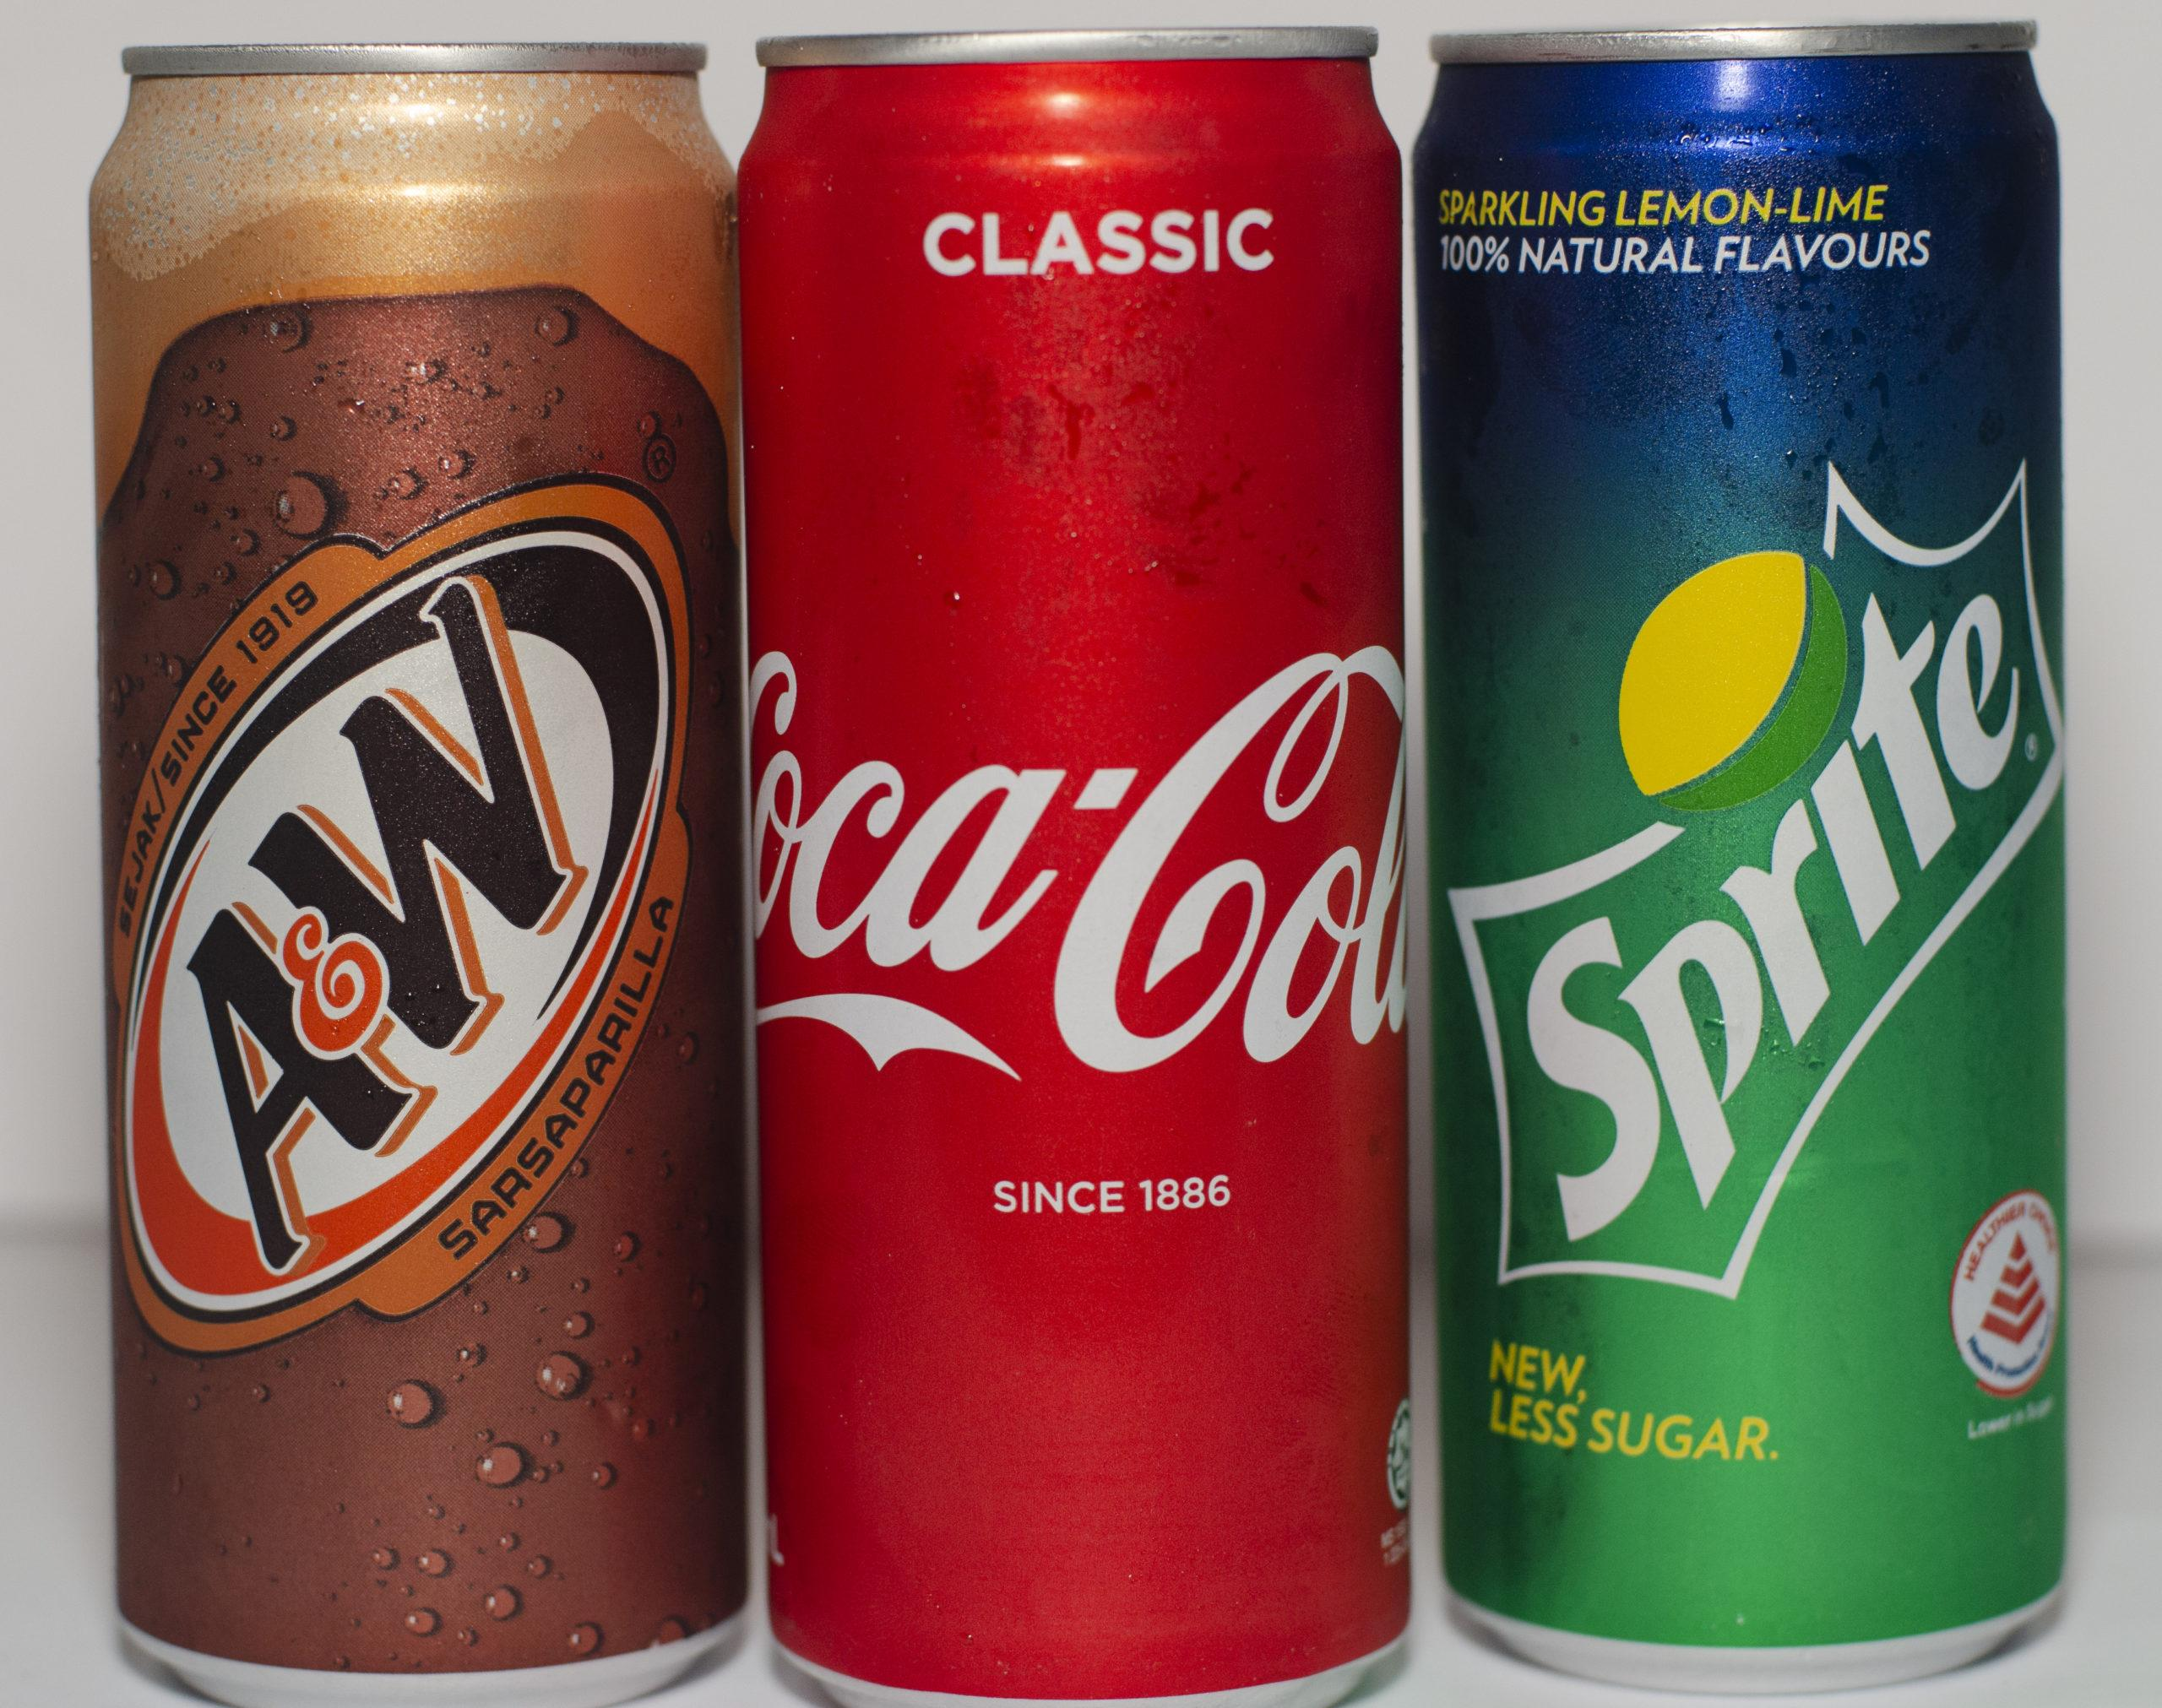can: (741, 28, 1411, 1701), (1414, 23, 2065, 1689), (91, 46, 744, 1701)
